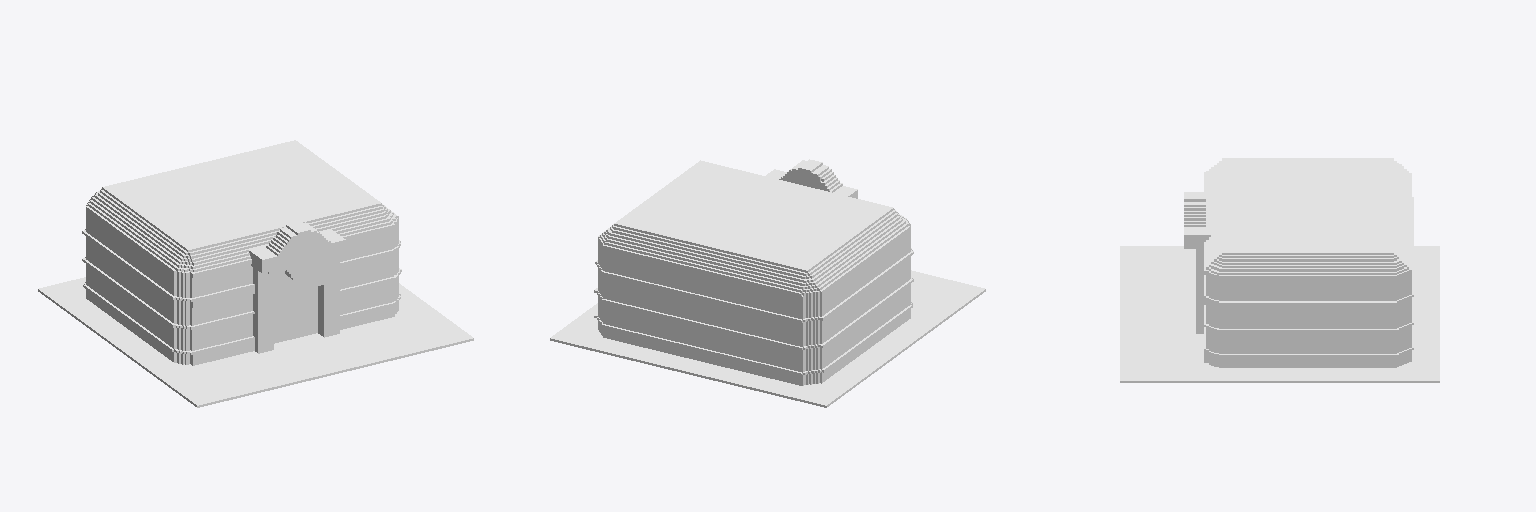
Rendered from CentroPoke.obj.
The picture shows the model from 3 angles: view 1: azimuth 30°, elevation 25°; view 2: azimuth 150°, elevation 25°; view 3: azimuth 270°, elevation 25°; orthographic projection.
Parts seen in each view (by area): view 1: s21135; view 2: s21135; view 3: s21135.
Part boxes in pixels (bbox=[...]): s21135: bbox=[38, 140, 473, 407]; s21135: bbox=[550, 159, 985, 407]; s21135: bbox=[1120, 158, 1439, 382].
Size of the model in its own units: 12.6 by 5.2 by 12.6.